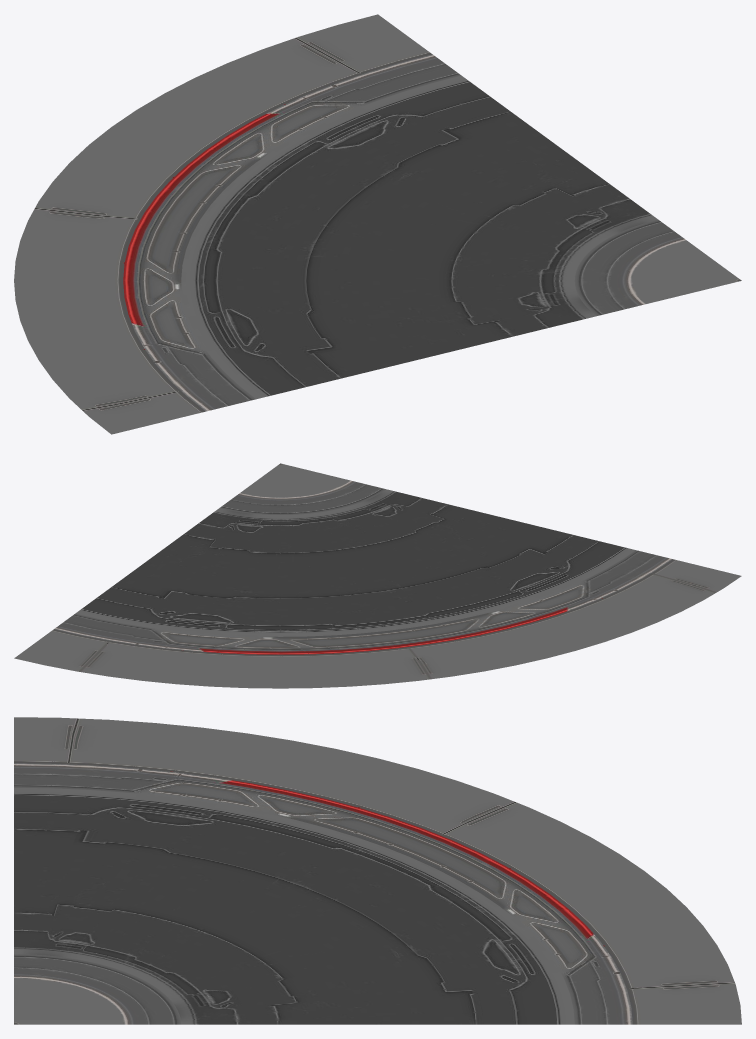
The model's file is platform_centerplate_curve.gltf.
3 renders of one model, top to bottom at view 1: azimuth 30°, elevation 25°; view 2: azimuth 150°, elevation 25°; view 3: azimuth 270°, elevation 25°, orthographic. The views are drawn at different scales.
Visible parts, largest first — view 1: Platform_CenterPlate_Curve; view 2: Platform_CenterPlate_Curve; view 3: Platform_CenterPlate_Curve.
Boxes of the visible parts, x1,y1,x2,y2 form: Platform_CenterPlate_Curve: (14, 14, 741, 434); Platform_CenterPlate_Curve: (14, 463, 741, 688); Platform_CenterPlate_Curve: (14, 717, 741, 1024).
Bounding box in the file's own units: 4 × 2.84e-14 × 4.
2 materials, 2 textured.
